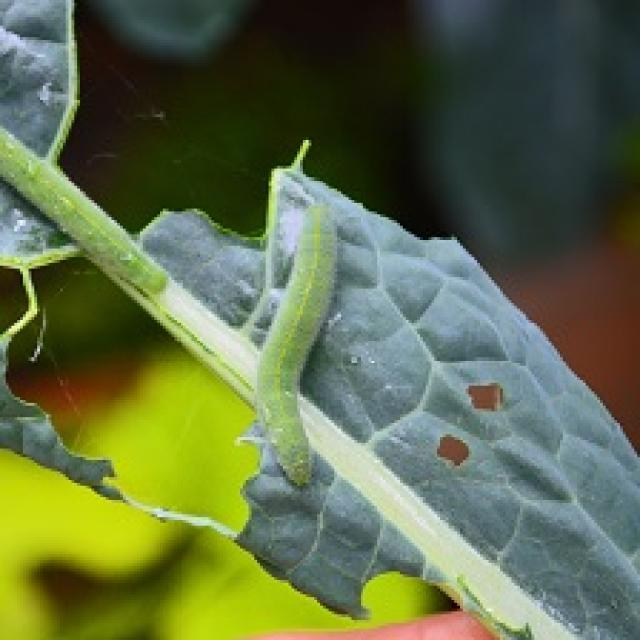Cabbage-worm: (1, 114, 172, 315), (262, 176, 352, 548)
